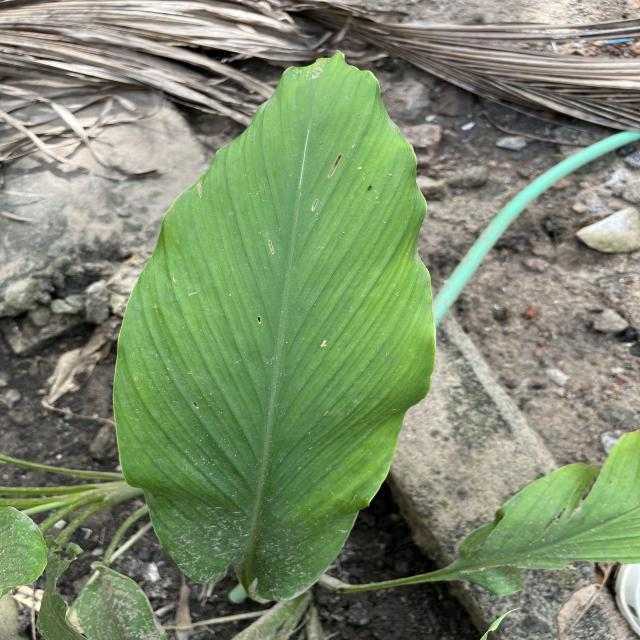Curcuma longa: (110, 47, 440, 606)
